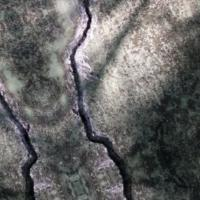crack: (2, 1, 136, 196)
